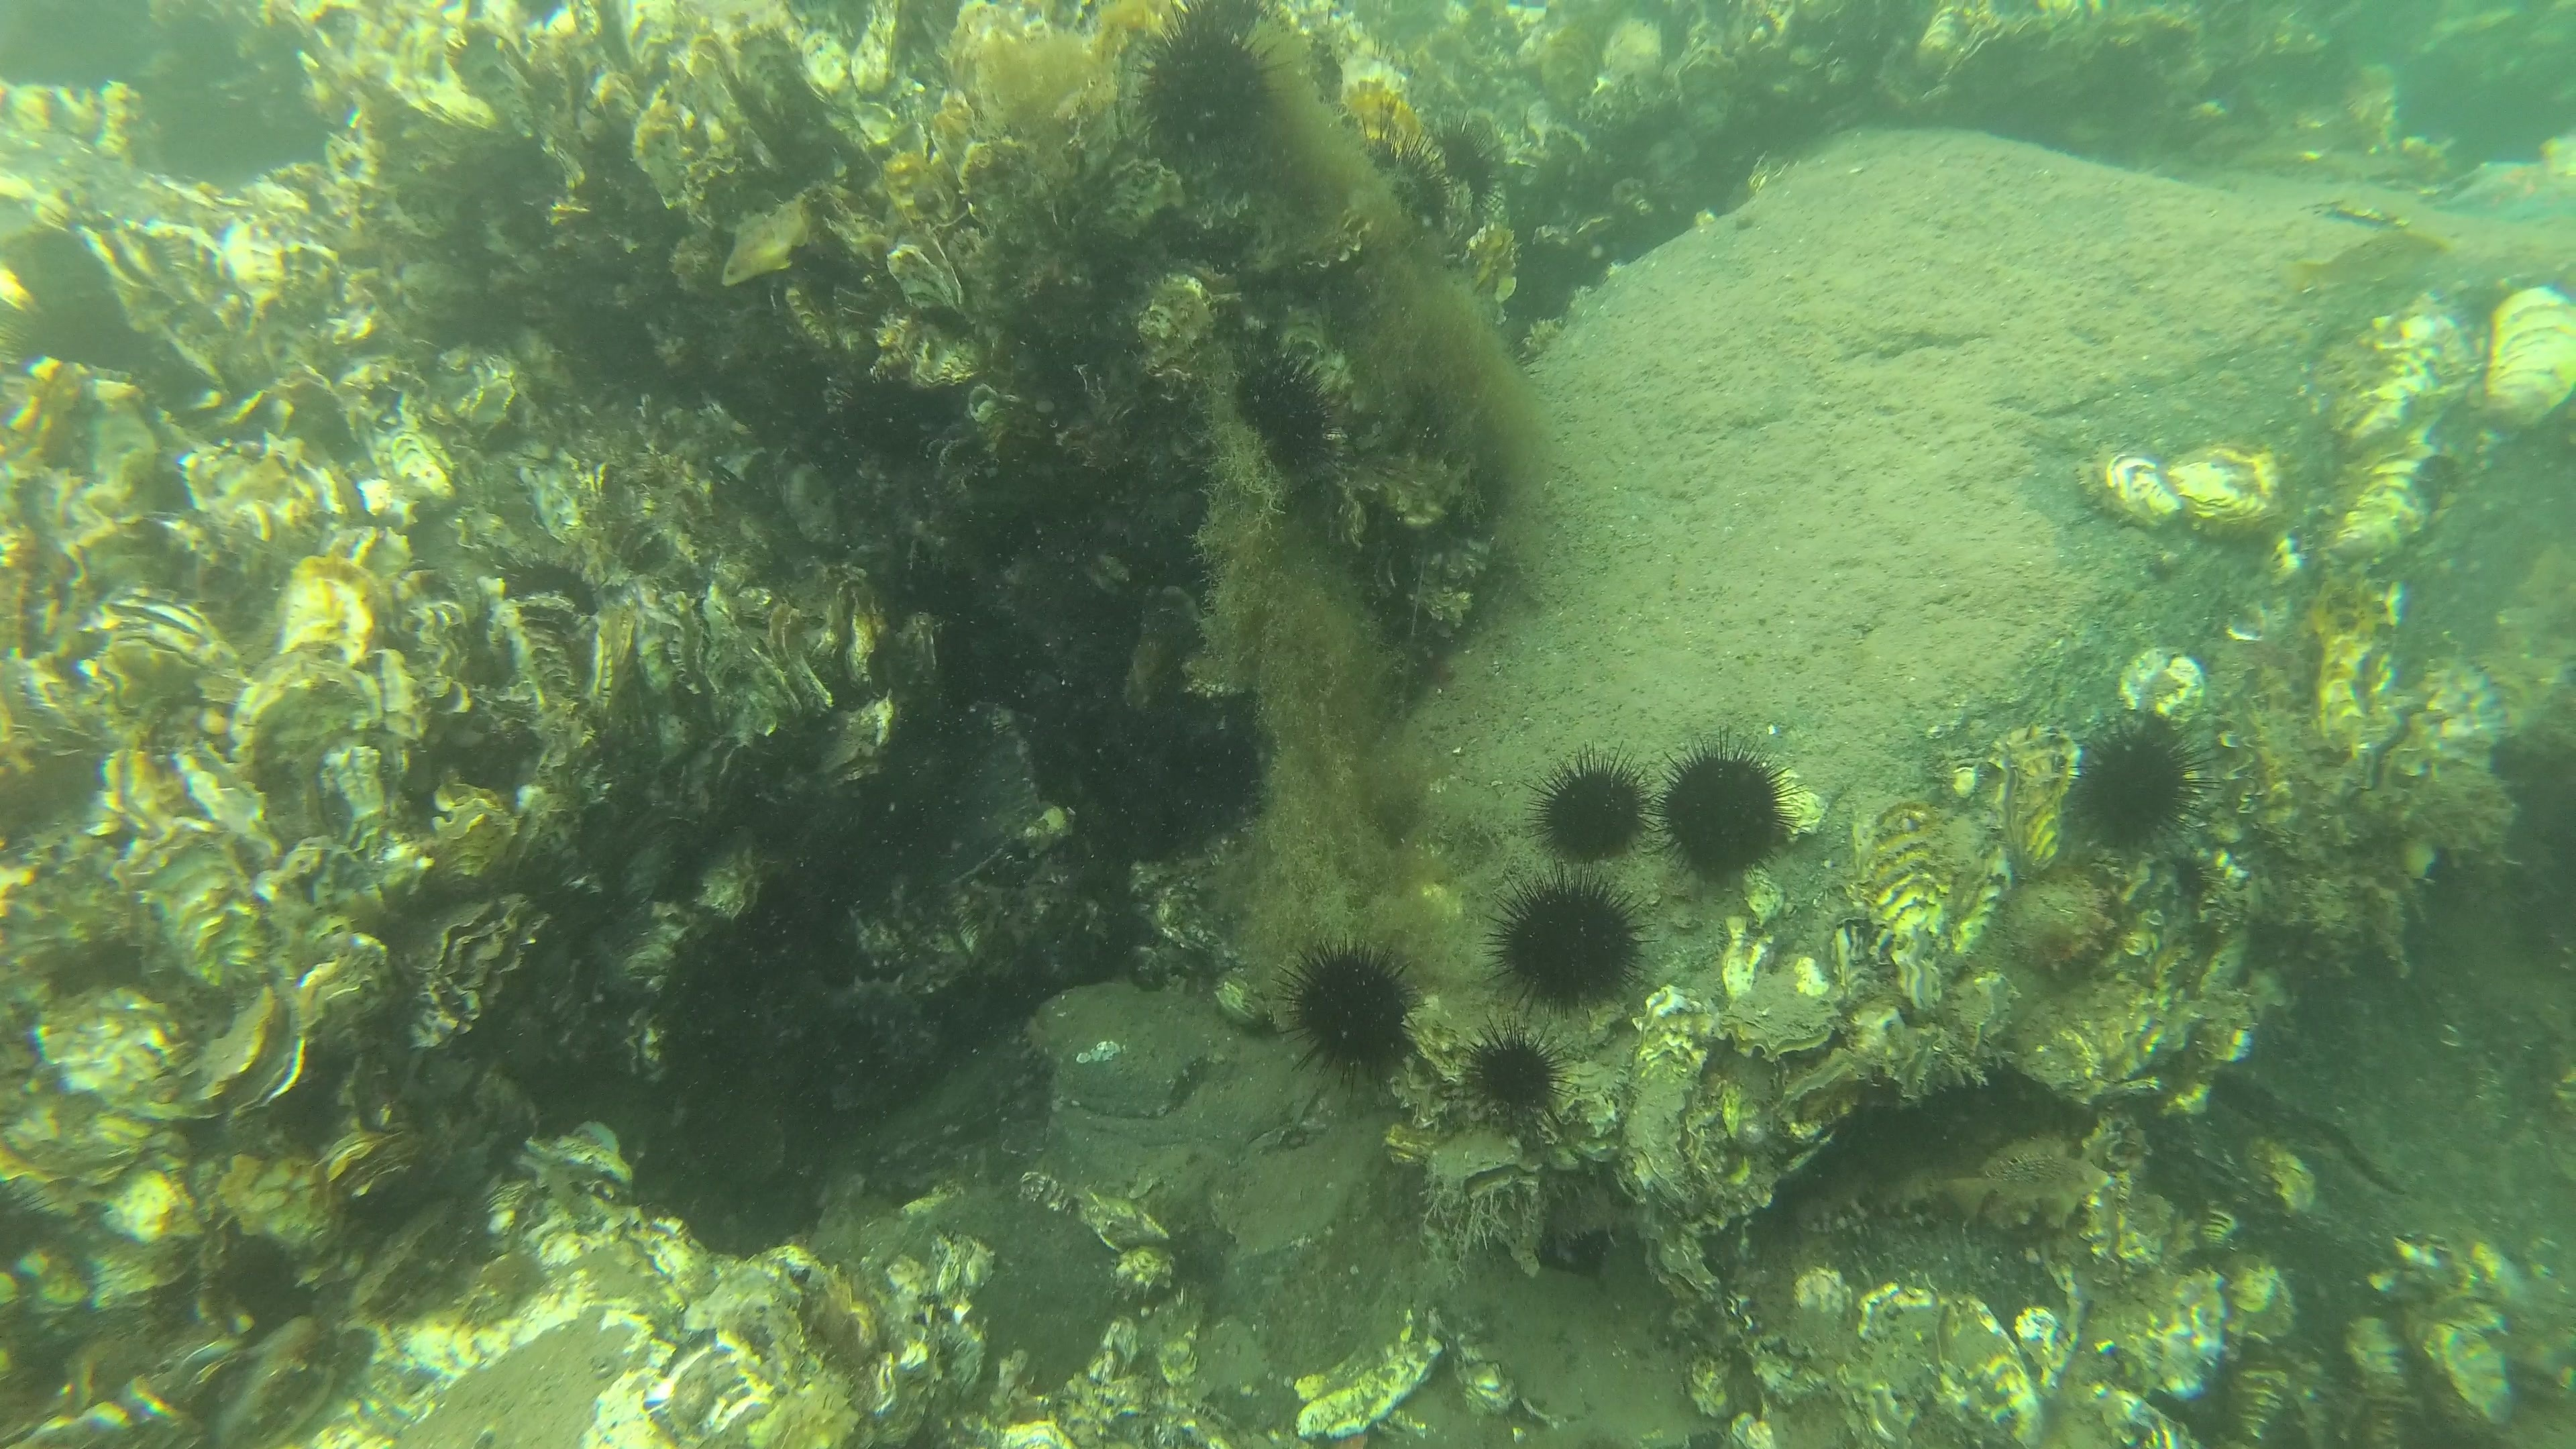echinus: (2063, 695, 2217, 867), (1483, 863, 1654, 1008), (1274, 932, 1422, 1097), (1665, 724, 1801, 893), (1123, 9, 1279, 154), (1520, 741, 1658, 872), (1233, 336, 1348, 478), (1348, 97, 1454, 239), (1460, 1010, 1571, 1127), (499, 543, 610, 621), (1435, 120, 1511, 234)
starfish: (2419, 142, 2576, 230)
